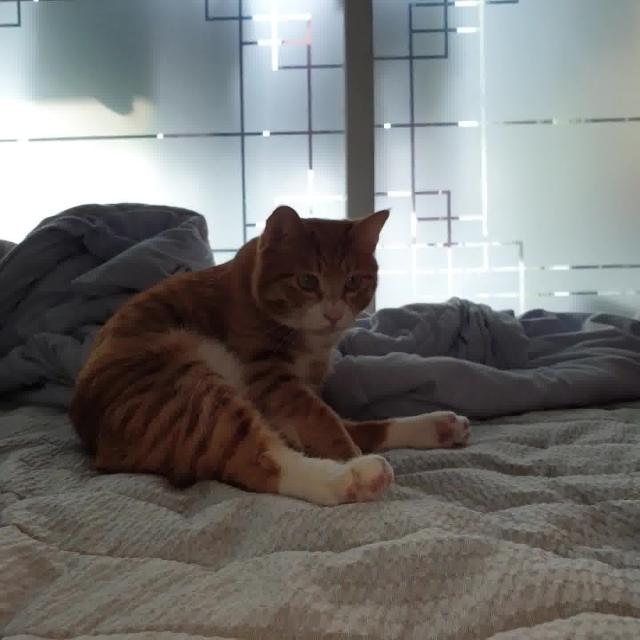cat: (64, 193, 495, 519)
